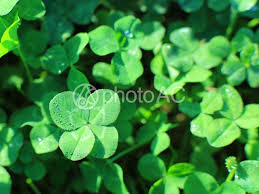4-clover: (50, 88, 120, 163)
